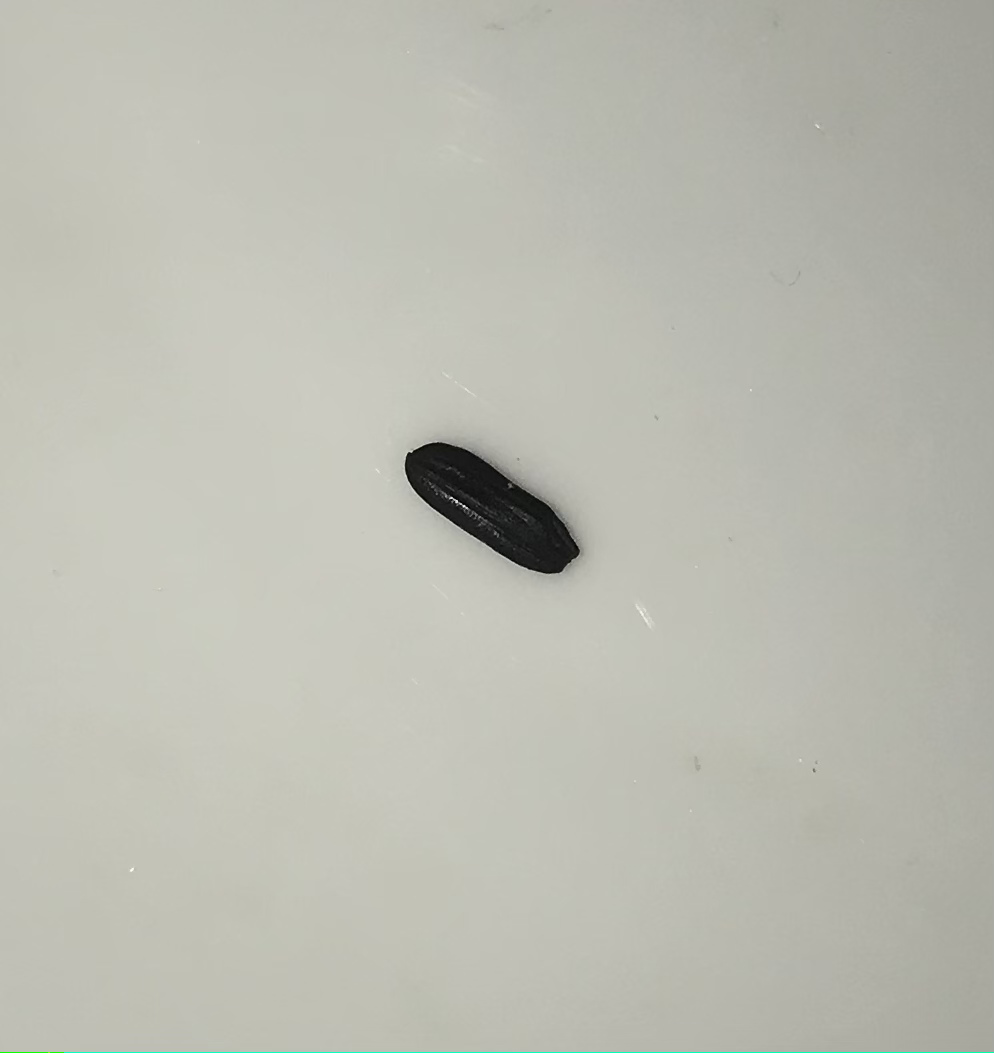Gao Nep Cam: (400, 433, 587, 582)
